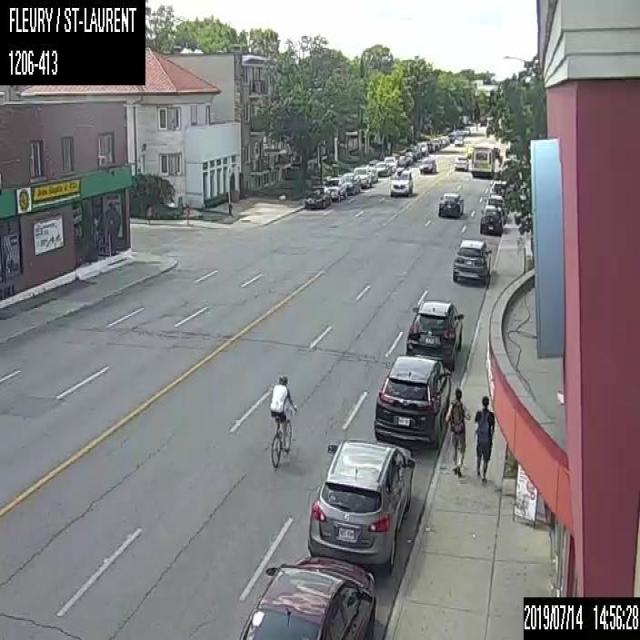bus: (470, 143, 495, 177)
cyclist: (269, 372, 297, 468)
pedestrian: (472, 394, 494, 482), (448, 388, 466, 477)
vehicle: (306, 437, 414, 574), (239, 556, 376, 639), (373, 354, 449, 450), (406, 298, 462, 371), (451, 239, 491, 284), (437, 190, 463, 218), (389, 167, 412, 196), (483, 194, 506, 222), (304, 186, 330, 210), (480, 207, 503, 234), (323, 176, 346, 201), (340, 171, 360, 194), (351, 165, 371, 188), (418, 156, 436, 172), (365, 160, 377, 182), (375, 160, 390, 176), (384, 156, 398, 172), (413, 141, 428, 155), (454, 156, 468, 170), (454, 136, 463, 144)
